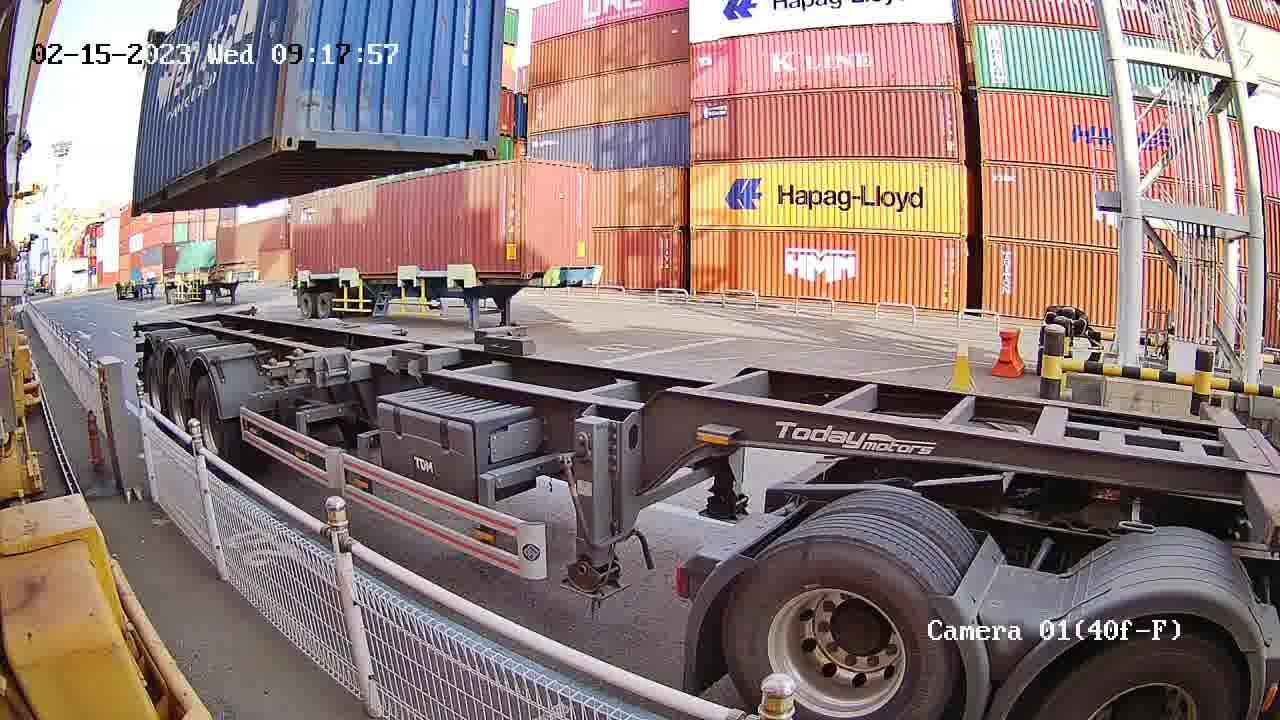Chassis: (289, 325, 524, 378)
Cone: (289, 345, 306, 381)
Hole_L: (281, 110, 326, 149)
Hole_R: (247, 112, 282, 162), (461, 119, 501, 158)
Tire: (719, 544, 954, 719), (1032, 635, 1248, 717), (196, 384, 227, 453), (168, 367, 190, 427), (148, 358, 164, 411)
